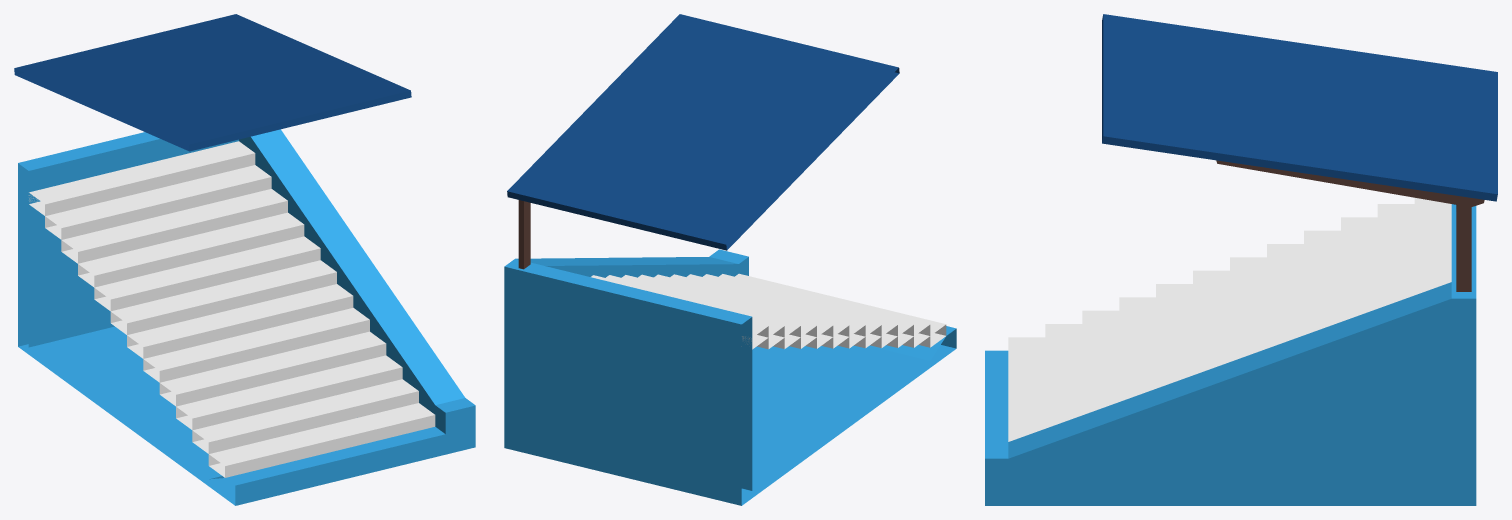
The model's file is stadium_stands_right.fbx.
The picture shows the model from 3 angles, left to right: view 1: azimuth 30°, elevation 25°; view 2: azimuth 150°, elevation 25°; view 3: azimuth 270°, elevation 25°; orthographic projection. The views are drawn at different scales.
Visible parts, largest first — view 1: stadium_stands_right; view 2: stadium_stands_right; view 3: stadium_stands_right.
Part boxes in pixels (left/top/right/bottom): stadium_stands_right: left=14, top=14, right=475, bottom=505; stadium_stands_right: left=504, top=14, right=956, bottom=505; stadium_stands_right: left=985, top=14, right=1497, bottom=505.
Bounding box in the file's own units: 957 × 1223 × 1566.
